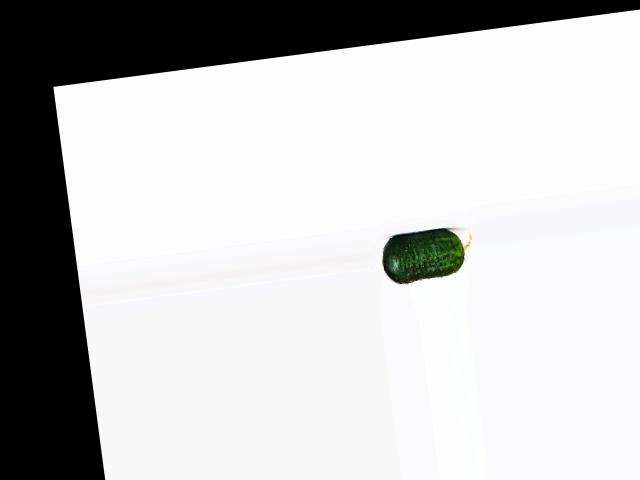cucumber: (380, 224, 477, 286)
